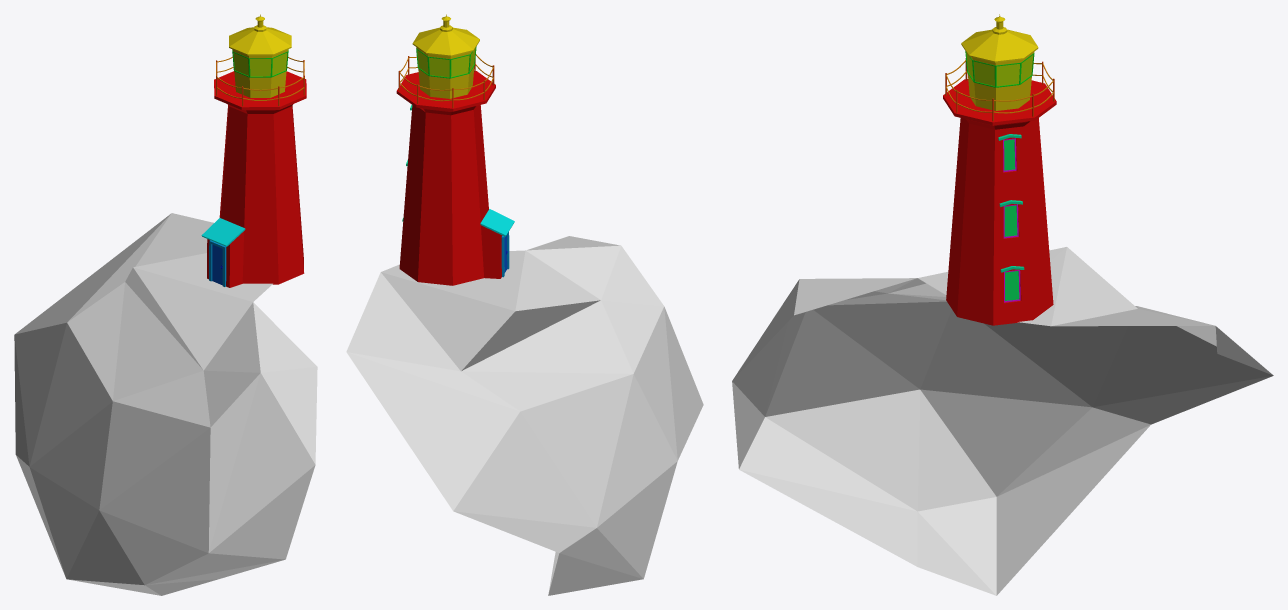
Rendered from Lighthouse.fbx.
3 views of the same model, side by side, from view 1: azimuth 30°, elevation 25°; view 2: azimuth 150°, elevation 25°; view 3: azimuth 270°, elevation 25° (orthographic). The views are drawn at different scales.
Parts seen in each view (by area): view 1: Lighthouse; view 2: Lighthouse; view 3: Lighthouse.
Boxes of the visible parts, x1,y1,x2,y2 form: Lighthouse: (14,14,317,595); Lighthouse: (346,14,703,595); Lighthouse: (732,14,1273,595).
Bounding box in the file's own units: 997 × 2220 × 1709.
